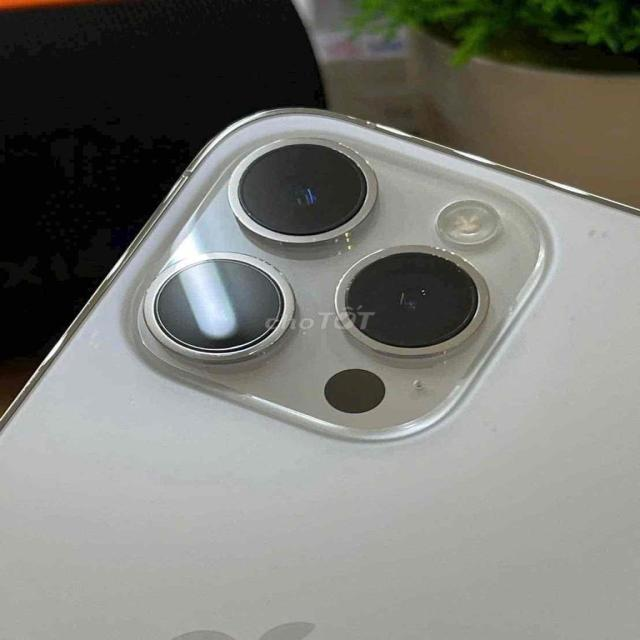gen_14: (12, 83, 639, 640)
scratch: (557, 208, 632, 266)
